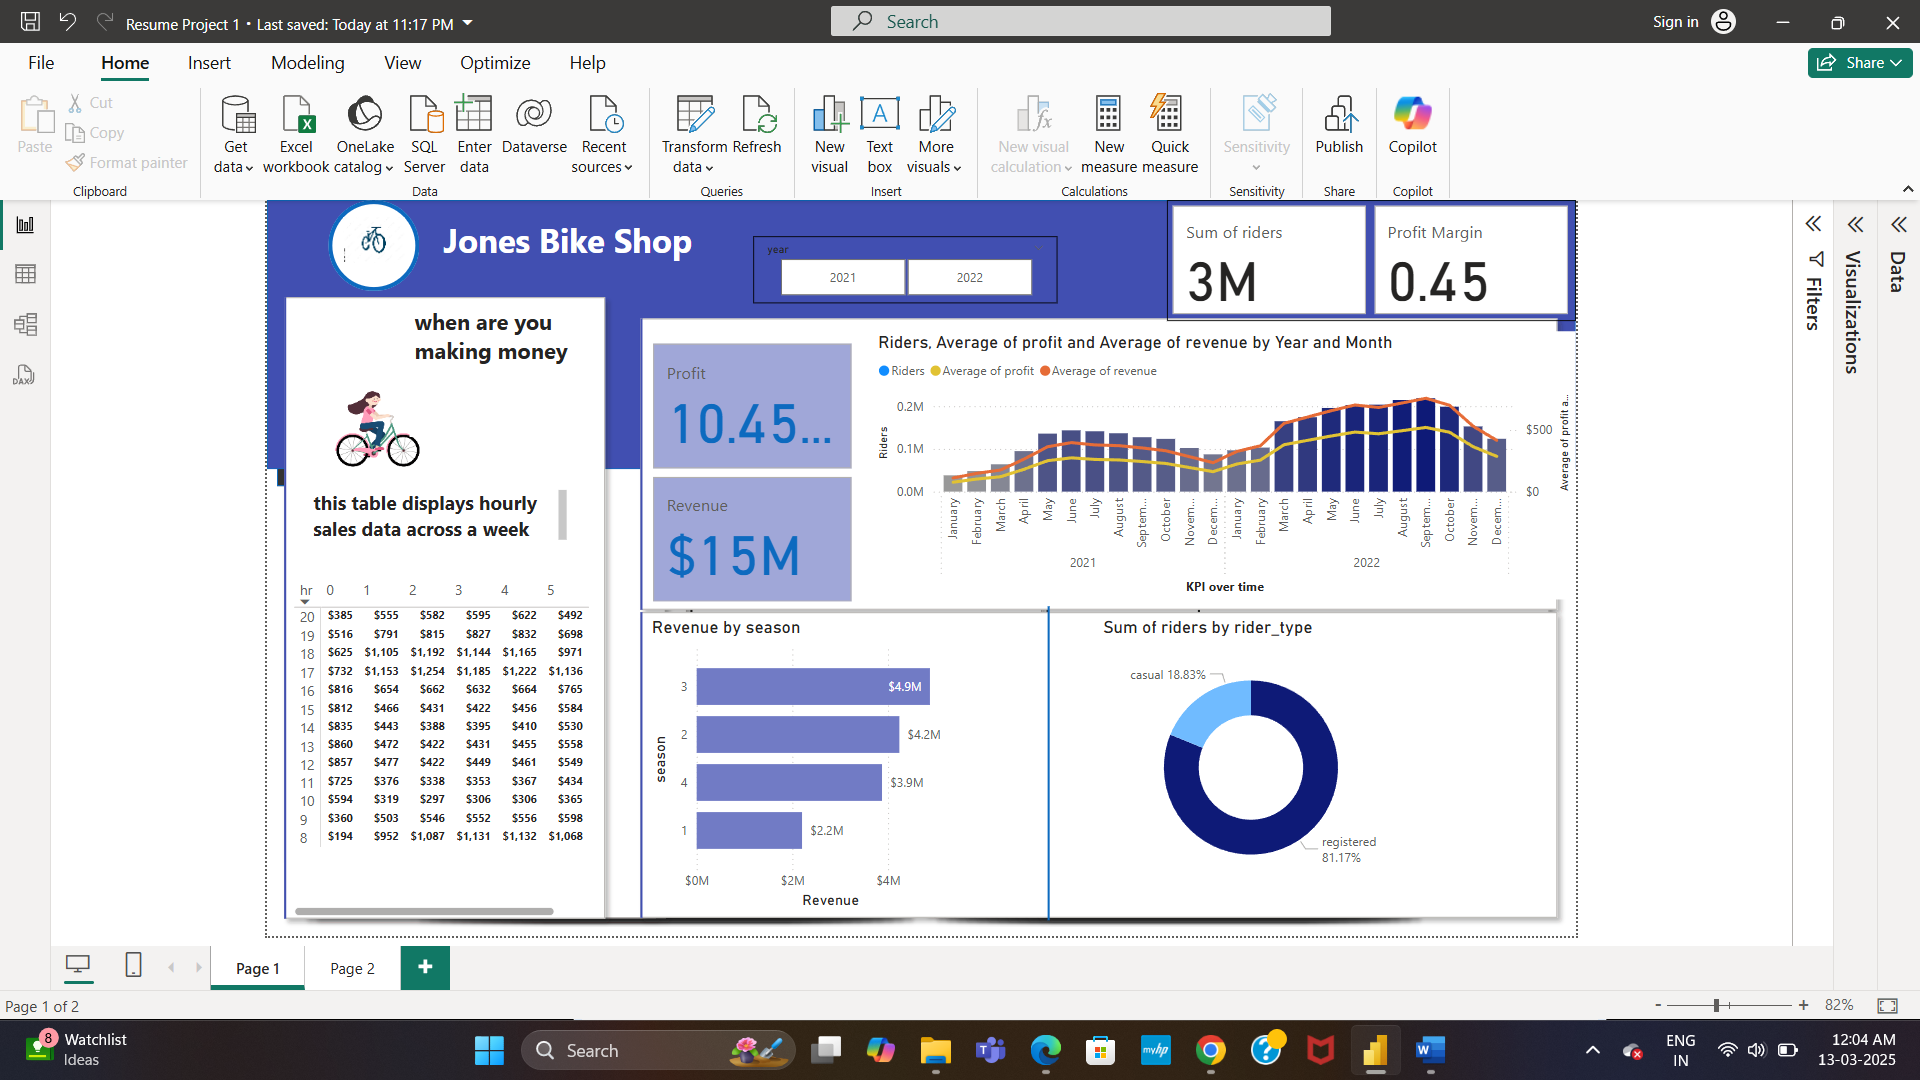

Layout of this report page (visuals, bound fields, positions):
{"tool":"powerbi","page":{"name":"Page 1","canvas":[1280,720],"ordinal":0},"visuals":[{"type":"shape","box":[9.6,0,1254.2,279.9],"z":0},{"type":"cardVisual","fields":{"Data":["Min(Query1.riders)"]},"box":[9.6,68.6,396.6,536.5],"z":1000},{"type":"cardVisual","fields":{"Data":["Min(Query1.riders)"]},"box":[19.6,78.6,396.6,536.5],"z":2000},{"type":"cardVisual","fields":{"Data":["Min(Query1.riders)"]},"box":[29.6,88.6,396.6,536.5],"z":3000},{"type":"cardVisual","fields":{"Data":["Min(Query1.riders)"]},"box":[39.6,98.6,396.6,536.5],"z":4000},{"type":"cardVisual","fields":{"Data":["Min(Query1.riders)"]},"box":[49.6,108.6,396.6,536.5],"z":5000},{"type":"cardVisual","fields":{"Data":["Min(Query1.riders)"]},"box":[59.6,118.6,396.6,536.5],"z":6000},{"type":"cardVisual","fields":{"Data":["Min(Query1.riders)"]},"box":[69.6,128.6,396.6,536.5],"z":7000},{"type":"cardVisual","fields":{"Data":["Min(Query1.riders)"]},"box":[79.6,138.6,396.6,536.5],"z":8000},{"type":"cardVisual","fields":{"Data":["Min(Query1.riders)"]},"box":[89.6,148.6,396.6,536.5],"z":9000},{"type":"cardVisual","fields":{"Data":["Min(Query1.riders)"]},"box":[99.6,158.6,396.6,536.5],"z":10000},{"type":"cardVisual","fields":{"Data":["Min(Query1.riders)"]},"box":[109.6,168.6,396.6,536.5],"z":11000},{"type":"cardVisual","fields":{"Data":["Min(Query1.riders)"]},"box":[119.6,178.6,396.6,536.5],"z":12000},{"type":"cardVisual","fields":{"Data":["Min(Query1.riders)"]},"box":[129.6,183.5,396.6,536.5],"z":13000},{"type":"cardVisual","fields":{"Data":["Min(Query1.riders)"]},"box":[139.6,183.5,396.6,536.5],"z":14000},{"type":"cardVisual","fields":{"Data":["Min(Query1.riders)"]},"box":[149.6,183.5,396.6,536.5],"z":15000},{"type":"cardVisual","fields":{"Data":["Min(Query1.riders)"]},"box":[159.6,183.5,396.6,536.5],"z":16000},{"type":"cardVisual","fields":{"Data":["Min(Query1.riders)"]},"box":[169.6,183.5,396.6,536.5],"z":17000},{"type":"cardVisual","fields":{"Data":["Min(Query1.riders)"]},"box":[179.6,183.5,396.6,536.5],"z":18000},{"type":"cardVisual","fields":{"Data":["Min(Query1.riders)"]},"box":[189.6,183.5,396.6,536.5],"z":19000},{"type":"cardVisual","fields":{"Data":["Min(Query1.riders)"]},"box":[199.6,183.5,396.6,536.5],"z":20000},{"type":"cardVisual","fields":{"Data":["Min(Query1.riders)"]},"box":[209.6,183.5,396.6,536.5],"z":21000},{"type":"cardVisual","fields":{"Data":["Min(Query1.riders)"]},"box":[219.6,183.5,396.6,536.5],"z":22000},{"type":"cardVisual","fields":{"Data":["Min(Query1.riders)"]},"box":[229.6,183.5,396.6,536.5],"z":23000},{"type":"cardVisual","fields":{"Data":["Min(Query1.riders)"]},"box":[239.6,183.5,396.6,536.5],"z":24000},{"type":"cardVisual","fields":{"Data":["Min(Query1.riders)"]},"box":[249.6,183.5,396.6,536.5],"z":25000},{"type":"cardVisual","fields":{"Data":["Min(Query1.riders)"]},"box":[595.5,149.6,396.6,536.5],"z":26000},{"type":"cardVisual","fields":{"Data":["Min(Query1.riders)"]},"box":[0,0,378.7,661.4],"z":27000},{"type":"cardVisual","fields":{"Data":["Min(Query1.riders)"]},"box":[605.5,159.6,396.6,536.5],"z":28000},{"type":"cardVisual","fields":{"Data":["Min(Query1.riders)"]},"box":[615.5,169.6,396.6,536.5],"z":29000},{"type":"cardVisual","fields":{"Data":["Min(Query1.riders)"]},"box":[625.5,179.6,396.6,536.5],"z":30000},{"type":"cardVisual","fields":{"Data":["Min(Query1.riders)"]},"box":[635.5,183.5,396.6,536.5],"z":31000},{"type":"cardVisual","fields":{"Data":["Min(Query1.riders)"]},"box":[645.5,183.5,396.6,536.5],"z":32000},{"type":"cardVisual","fields":{"Data":["Min(Query1.riders)"]},"box":[655.5,183.5,396.6,536.5],"z":33000},{"type":"cardVisual","fields":{"Data":["Min(Query1.riders)"]},"box":[665.5,183.5,396.6,536.5],"z":34000},{"type":"cardVisual","fields":{"Data":["Min(Query1.riders)"]},"box":[675.5,183.5,396.6,536.5],"z":35000},{"type":"cardVisual","fields":{"Data":["Min(Query1.riders)"]},"box":[685.5,183.5,396.6,536.5],"z":36000},{"type":"cardVisual","fields":{"Data":["Min(Query1.riders)"]},"box":[695.5,183.5,396.6,536.5],"z":37000},{"type":"cardVisual","fields":{"Data":["Min(Query1.riders)"]},"box":[705.5,183.5,396.6,536.5],"z":38000},{"type":"cardVisual","fields":{"Data":["Min(Query1.riders)"]},"box":[715.5,183.5,396.6,536.5],"z":39000},{"type":"cardVisual","fields":{"Data":["Min(Query1.riders)"]},"box":[725.5,183.5,396.6,536.5],"z":40000},{"type":"cardVisual","fields":{"Data":["Min(Query1.riders)"]},"box":[735.5,183.5,396.6,536.5],"z":41000},{"type":"cardVisual","fields":{"Data":["Min(Query1.riders)"]},"box":[745.5,183.5,396.6,536.5],"z":42000},{"type":"cardVisual","fields":{"Data":["Min(Query1.riders)"]},"box":[0,0,428.1,665.5],"z":43000},{"type":"cardVisual","fields":{"Data":["Min(Query1.riders)"]},"box":[19.2,58.6,378.7,661.4],"z":44000},{"type":"cardVisual","fields":{"Data":["Min(Query1.riders)"]},"box":[397.9,0,378.7,661.4],"z":45000},{"type":"cardVisual","fields":{"Data":["Min(Query1.riders)"]},"box":[29.2,58.6,378.7,661.4],"z":46000},{"type":"cardVisual","fields":{"Data":["Min(Query1.riders)"]},"box":[893.3,0,378.7,661.4],"z":47000},{"type":"shape","box":[0,0,1280.3,263.5],"z":48000},{"type":"cardVisual","fields":{"Data":["Min(Query1.rider_type)"]},"box":[0,78.2,348.5,642.2],"z":49000},{"type":"cardVisual","fields":{"Data":["Min(Query1.rider_type)"]},"box":[348.5,98.8,931.7,319.7],"z":50000},{"type":"cardVisual","fields":{"Data":["Min(Query1.rider_type)"]},"box":[348.5,387,931.7,333.4],"z":51000},{"type":"pivotTable","fields":{"Rows":["Query1.hr"],"Values":["Avg(Query1.revenue)"],"Columns":["Query1.weekday"]},"box":[22,366.4,297.8,338.9],"z":52000},{"type":"cardVisual","fields":{"Data":["Min(Query1.rider_type)"]},"box":[20.6,129,178.4,192.1],"z":53000},{"type":"textbox","box":[140,98.8,178.4,133.1],"z":54000},{"type":"textbox","box":[39.8,278.6,258,59],"z":55000},{"type":"lineClusteredColumnComboChart","fields":{"Category":["Query1.dteday.Variation.Date Hierarchy.Year","Query1.dteday.Variation.Date Hierarchy.Month","Query1.dteday.Variation.Date Hierarchy.Day"],"Y":["Sum(Query1.riders)"],"Y2":["Avg(Query1.profit)","Avg(Query1.revenue)"]},"box":[592.8,129,687.5,262.1],"z":56000},{"type":"clusteredBarChart","fields":{"Category":["Query1.season"],"Y":["Sum(Query1.revenue)"]},"box":[371.9,407.5,328,290.9],"z":57000},{"type":"donutChart","fields":{"Category":["Query1.rider_type"],"Y":["Sum(Query1.riders)"]},"box":[813.7,407.5,299.1,277.2],"z":58000},{"type":"shape","box":[614.8,397.9,299.1,307.4],"z":59000},{"type":"cardVisual","fields":{"Data":["Sum(Query1.profit)","Sum(Query1.revenue)"]},"box":[373.2,135.8,204.5,263.5],"z":60000},{"type":"cardVisual","fields":{"Data":["Sum(Query1.riders)","Query1.Profit Margin"]},"box":[880.4,0,399.9,118.6],"z":61000},{"type":"shape","box":[60.4,0,89.2,89.2],"z":62000},{"type":"image","box":[70,0,70,78.2],"z":63000},{"type":"textbox","box":[167.4,12.3,318.4,65.9],"z":64000},{"type":"slicer","fields":{"Values":["Query1.year"]},"box":[476.2,35.7,297.8,65.9],"z":65000}]}

Visuals, with their boxes on the page's 1280x720 design canvas (x1, y1, x2, y2). These are canvas units, not pixel positions in the 1920x1080 screenshot, which may show the page scaled, cropped or inside an application window:
shape: (10,0,1264,280)
cardVisual - Min(Query1.riders): (10,69,406,605)
cardVisual - Min(Query1.riders): (20,79,416,615)
cardVisual - Min(Query1.riders): (30,89,426,625)
cardVisual - Min(Query1.riders): (40,99,436,635)
cardVisual - Min(Query1.riders): (50,109,446,645)
cardVisual - Min(Query1.riders): (60,119,456,655)
cardVisual - Min(Query1.riders): (70,129,466,665)
cardVisual - Min(Query1.riders): (80,139,476,675)
cardVisual - Min(Query1.riders): (90,149,486,685)
cardVisual - Min(Query1.riders): (100,159,496,695)
cardVisual - Min(Query1.riders): (110,169,506,705)
cardVisual - Min(Query1.riders): (120,179,516,715)
cardVisual - Min(Query1.riders): (130,184,526,720)
cardVisual - Min(Query1.riders): (140,184,536,720)
cardVisual - Min(Query1.riders): (150,184,546,720)
cardVisual - Min(Query1.riders): (160,184,556,720)
cardVisual - Min(Query1.riders): (170,184,566,720)
cardVisual - Min(Query1.riders): (180,184,576,720)
cardVisual - Min(Query1.riders): (190,184,586,720)
cardVisual - Min(Query1.riders): (200,184,596,720)
cardVisual - Min(Query1.riders): (210,184,606,720)
cardVisual - Min(Query1.riders): (220,184,616,720)
cardVisual - Min(Query1.riders): (230,184,626,720)
cardVisual - Min(Query1.riders): (240,184,636,720)
cardVisual - Min(Query1.riders): (250,184,646,720)
cardVisual - Min(Query1.riders): (596,150,992,686)
cardVisual - Min(Query1.riders): (0,0,379,661)
cardVisual - Min(Query1.riders): (606,160,1002,696)
cardVisual - Min(Query1.riders): (616,170,1012,706)
cardVisual - Min(Query1.riders): (626,180,1022,716)
cardVisual - Min(Query1.riders): (636,184,1032,720)
cardVisual - Min(Query1.riders): (646,184,1042,720)
cardVisual - Min(Query1.riders): (656,184,1052,720)
cardVisual - Min(Query1.riders): (666,184,1062,720)
cardVisual - Min(Query1.riders): (676,184,1072,720)
cardVisual - Min(Query1.riders): (686,184,1082,720)
cardVisual - Min(Query1.riders): (696,184,1092,720)
cardVisual - Min(Query1.riders): (706,184,1102,720)
cardVisual - Min(Query1.riders): (716,184,1112,720)
cardVisual - Min(Query1.riders): (726,184,1122,720)
cardVisual - Min(Query1.riders): (736,184,1132,720)
cardVisual - Min(Query1.riders): (746,184,1142,720)
cardVisual - Min(Query1.riders): (0,0,428,666)
cardVisual - Min(Query1.riders): (19,59,398,720)
cardVisual - Min(Query1.riders): (398,0,777,661)
cardVisual - Min(Query1.riders): (29,59,408,720)
cardVisual - Min(Query1.riders): (893,0,1272,661)
shape: (0,0,1280,264)
cardVisual - Min(Query1.rider_type): (0,78,348,720)
cardVisual - Min(Query1.rider_type): (348,99,1280,418)
cardVisual - Min(Query1.rider_type): (348,387,1280,720)
pivotTable - Query1.hr x Avg(Query1.revenue): (22,366,320,705)
cardVisual - Min(Query1.rider_type): (21,129,199,321)
textbox: (140,99,318,232)
textbox: (40,279,298,338)
lineClusteredColumnComboChart - Query1.dteday.Variation.Date Hierarchy.Year x Query1.dteday.Variation.Date Hierarchy.Month: (593,129,1280,391)
clusteredBarChart - Query1.season x Sum(Query1.revenue): (372,408,700,698)
donutChart - Query1.rider_type x Sum(Query1.riders): (814,408,1113,685)
shape: (615,398,914,705)
cardVisual - Sum(Query1.profit) x Sum(Query1.revenue): (373,136,578,399)
cardVisual - Sum(Query1.riders) x Query1.Profit Margin: (880,0,1280,119)
shape: (60,0,150,89)
image: (70,0,140,78)
textbox: (167,12,486,78)
slicer - Query1.year: (476,36,774,102)
